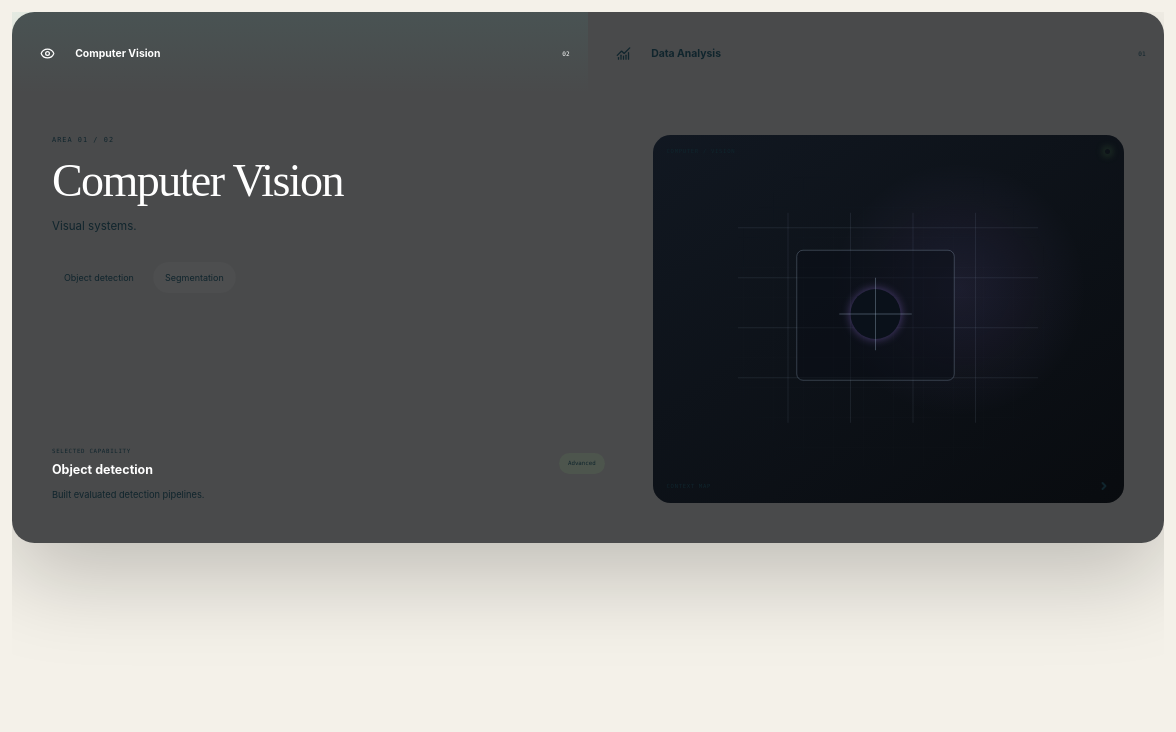
Test: SkillExplorer › shows one category and one skill detail at a time
The image size is (1176, 732).
expect the text "Built evaluated detection pipelines." is shown: met, box [52, 489, 204, 500]
Click the button "Segmentation". click: [194, 278]
box: [153, 262, 236, 293]
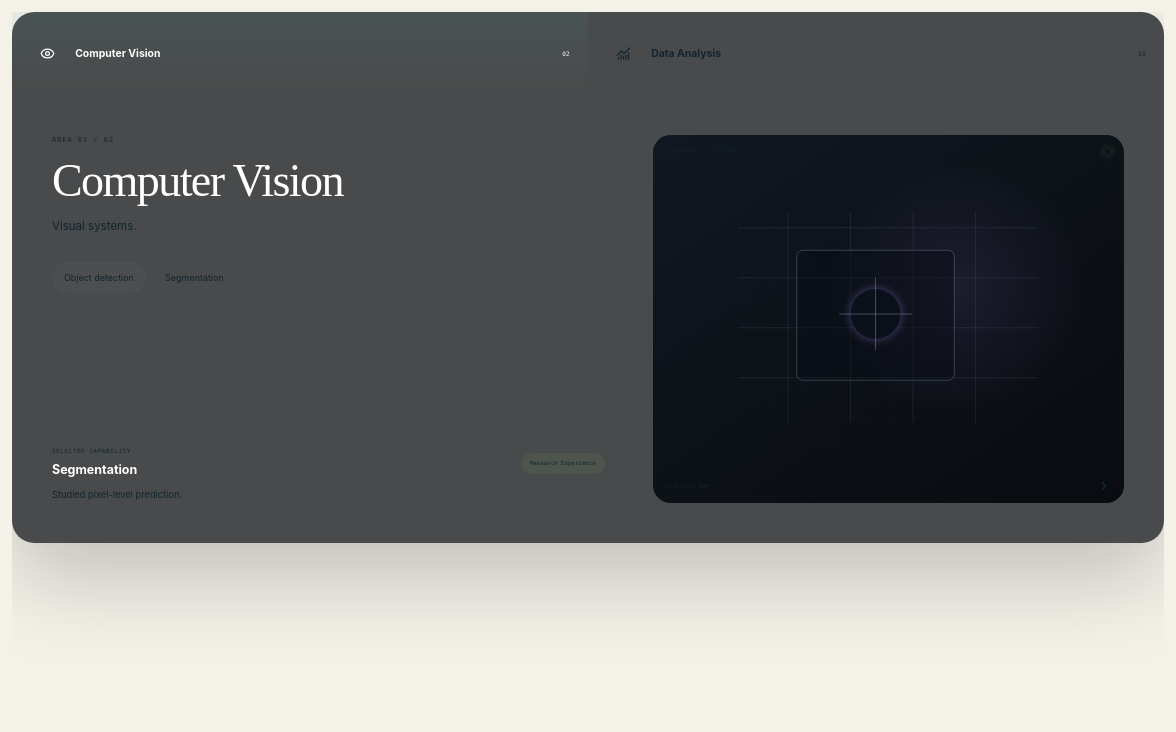
expect the text "Studied pixel-level prediction." is shown: met, box [52, 489, 182, 500]
expect the text "Built evaluated detection pipelines." is gone: met
Click the button "Data Analysis 01". click: [686, 53]
box: [588, 12, 1164, 95]
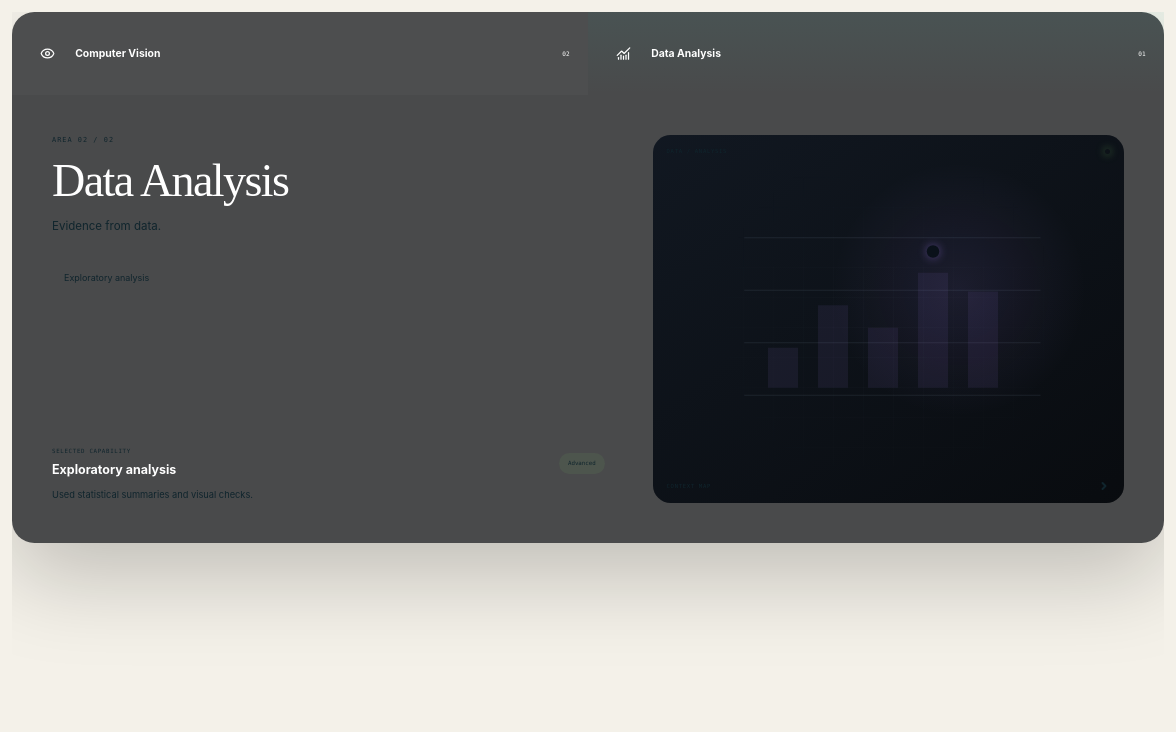
expect the text "Evidence from data." is shown: met, box [52, 219, 161, 233]
expect the text "Used statistical summaries and visual checks." is shown: met, box [52, 489, 253, 500]
